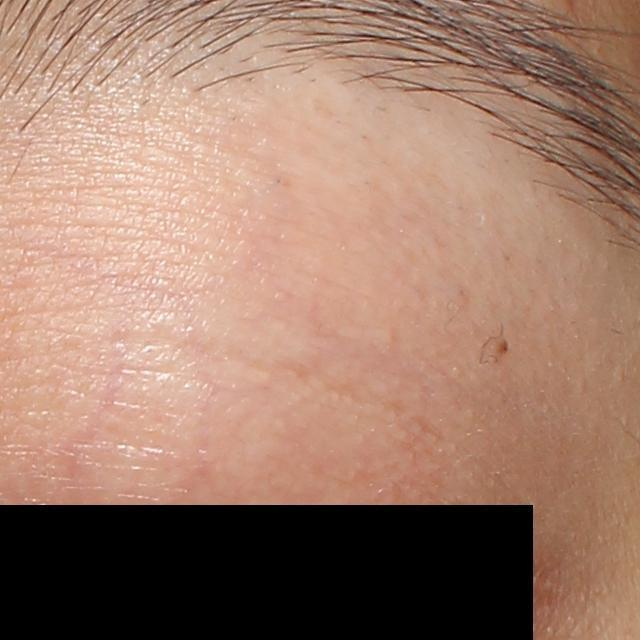nevus: (492, 334, 514, 358)
